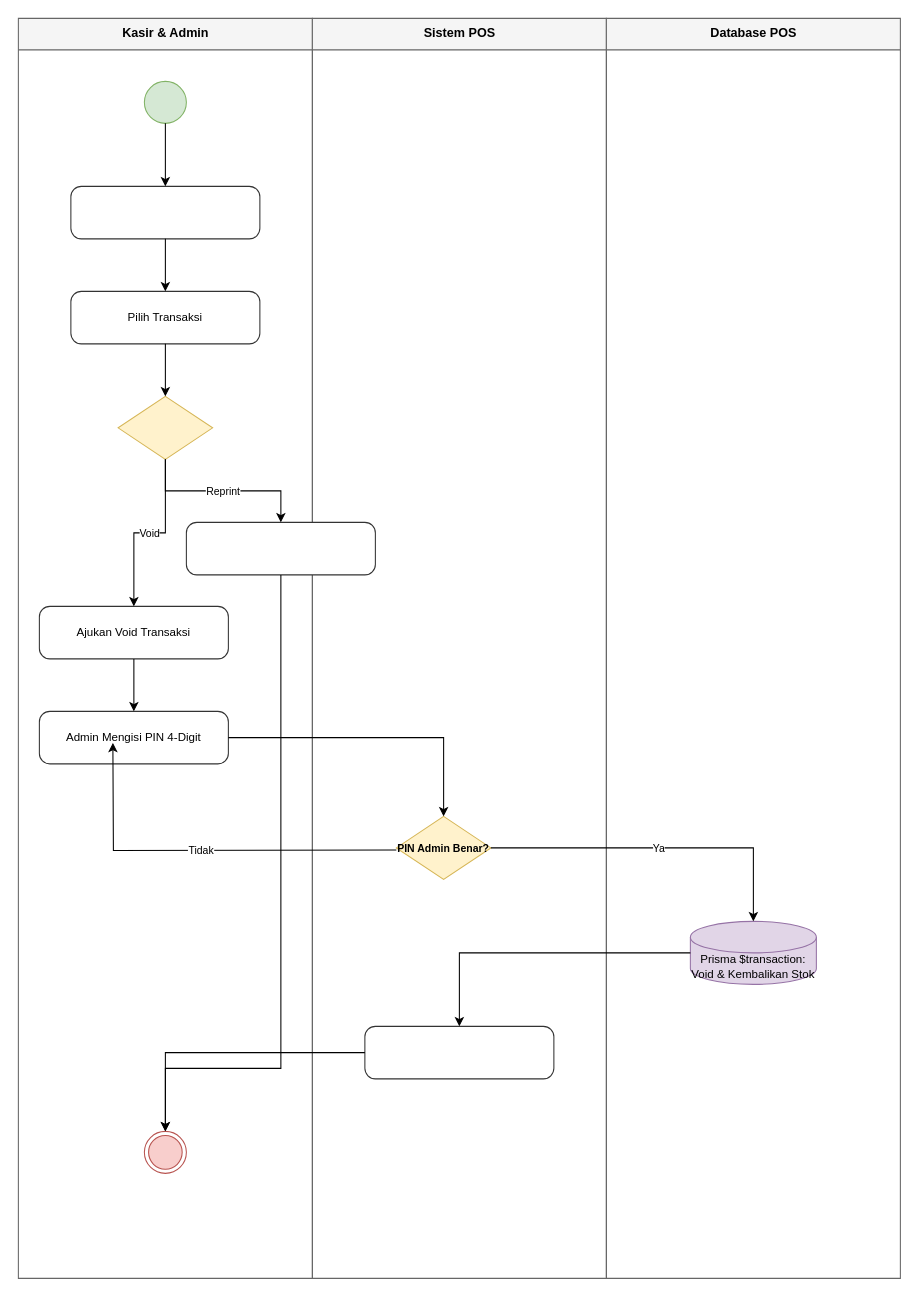
This 919x1297 diagram has some shape labels left out. The shapes that lost their labels are listed below. From the top down, each one's centre as x and y in pixels, then its label:
At point (165, 212): "Buka Riwayat Transaksi".
At point (165, 427): "Pilihan Aksi?".
At point (280, 548): "Reprint Struk".
At point (459, 1052): "Notifikasi Void Sukses".
